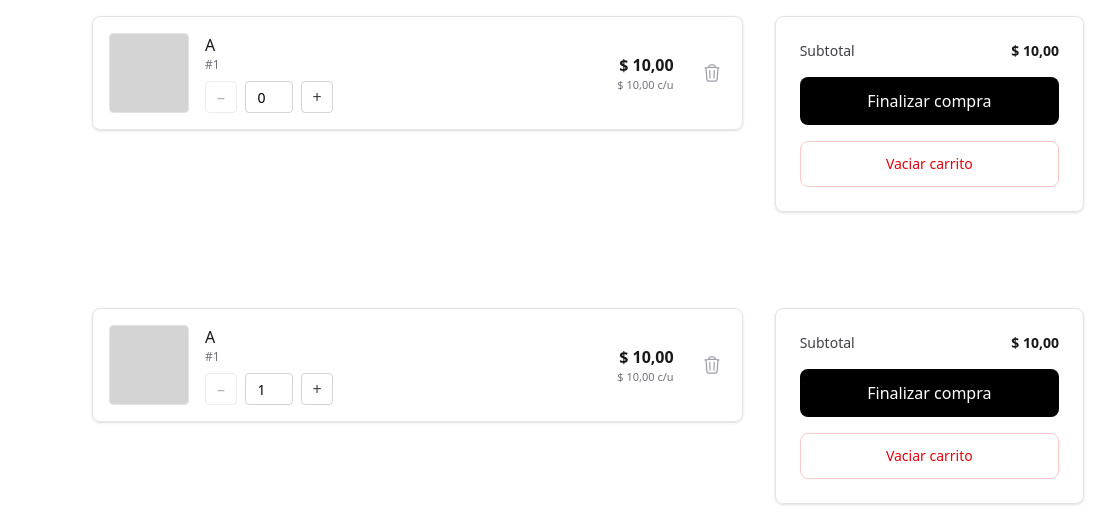
Cart screen › creates cart and navigates on checkout click
This screenshot has width=1101, height=522.
Click the 2nd button with test id "checkout-button".
click(929, 393)  # box [800,369,1059,417]
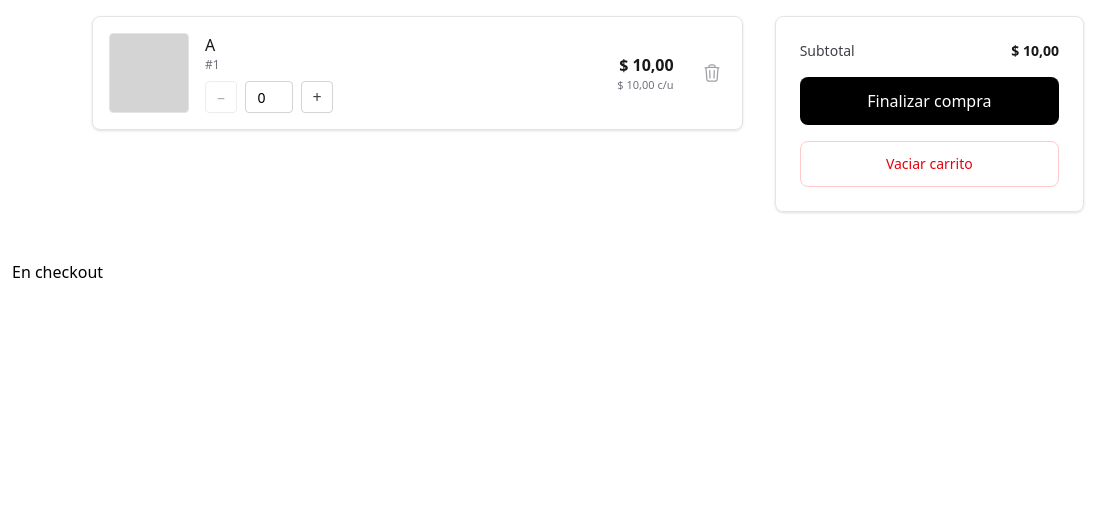
Expected: the text "En checkout" is shown, [12,261,103,283]
